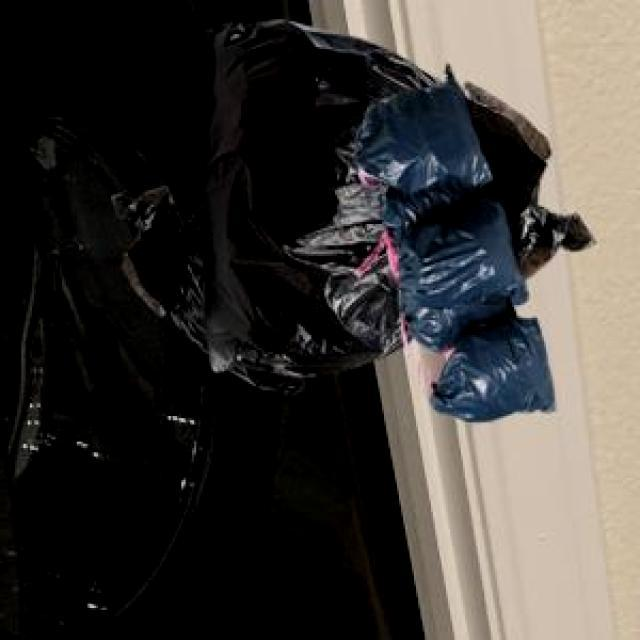Trashbag: (125, 38, 376, 375), (357, 64, 493, 196), (410, 200, 526, 320), (442, 310, 557, 425)
